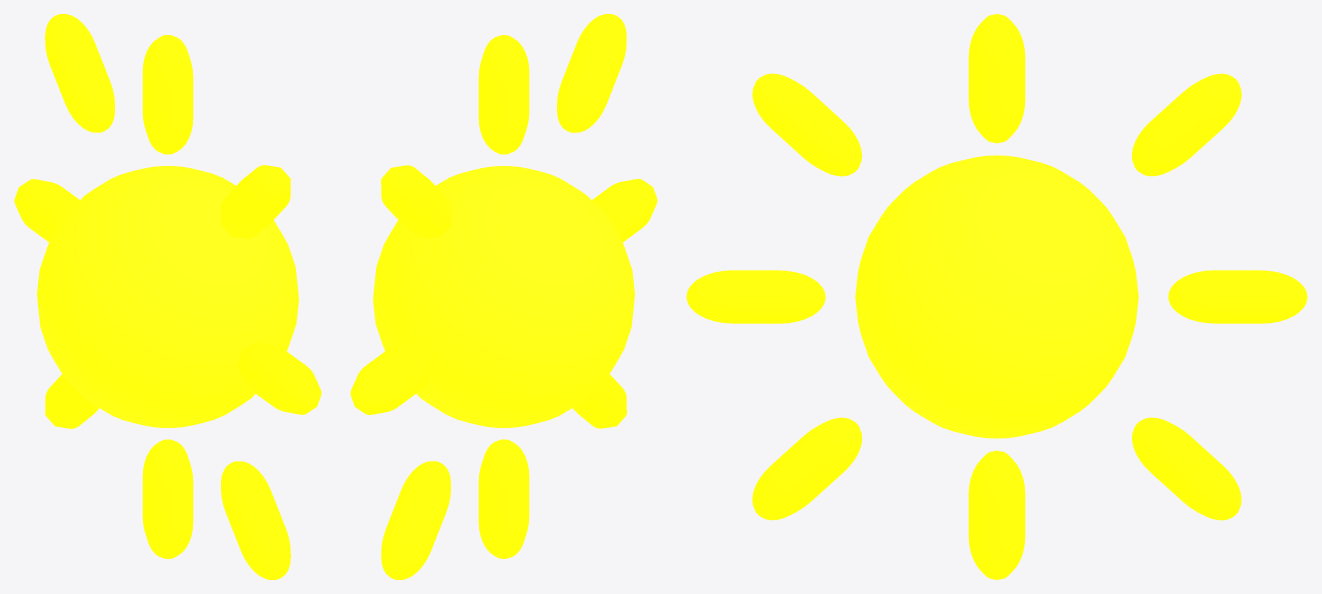
The model's file is clear.glb.
3 views of the same model, side by side, from view 1: azimuth 30°, elevation 25°; view 2: azimuth 150°, elevation 25°; view 3: azimuth 270°, elevation 25° (orthographic). The views are drawn at different scales.
Parts seen in each view (by area): view 1: Sphere, Capsule (×8); view 2: Sphere, Capsule (×8); view 3: Sphere, Capsule (×8).
Part boxes in pixels (x1,y1,x2,y2): Sphere: (37,166,298,427); Capsule (×8): (14,14,321,579); Sphere: (373,166,634,427); Capsule (×8): (350,14,657,579); Sphere: (855,155,1138,438); Capsule (×8): (686,14,1307,579).
Size of the model in its own units: 2 by 4.38 by 4.38.
